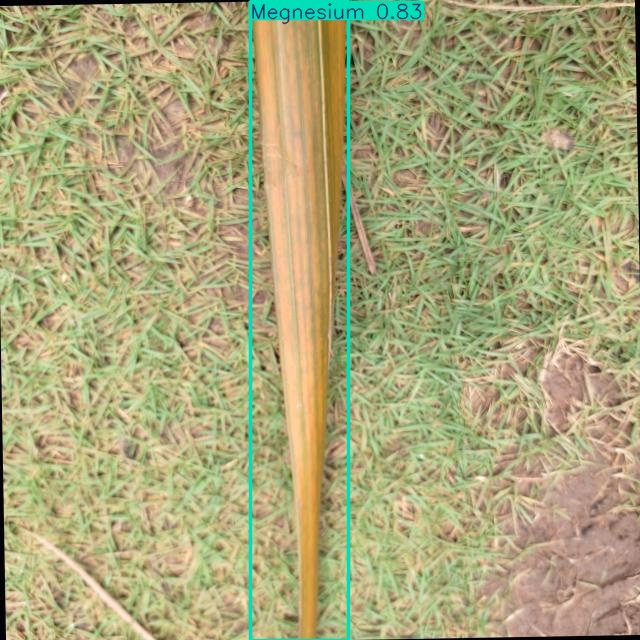Megnesium: (250, 1, 348, 640)
